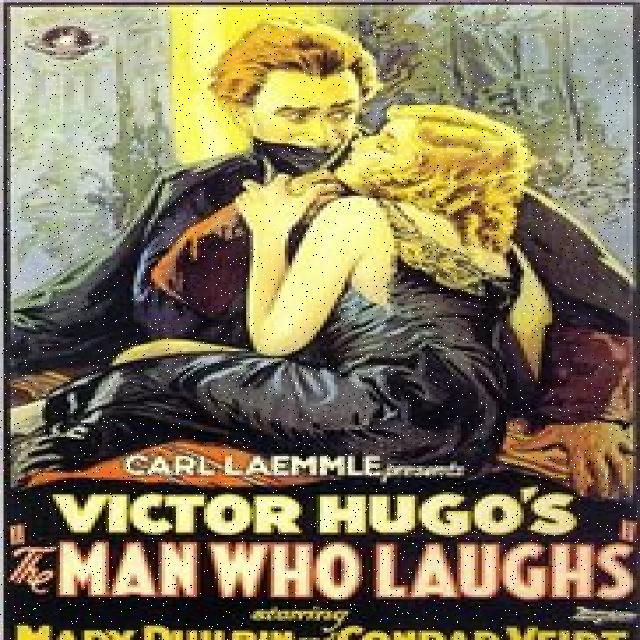movie-judul: (0, 482, 640, 606)
picture: (9, 8, 640, 454)
